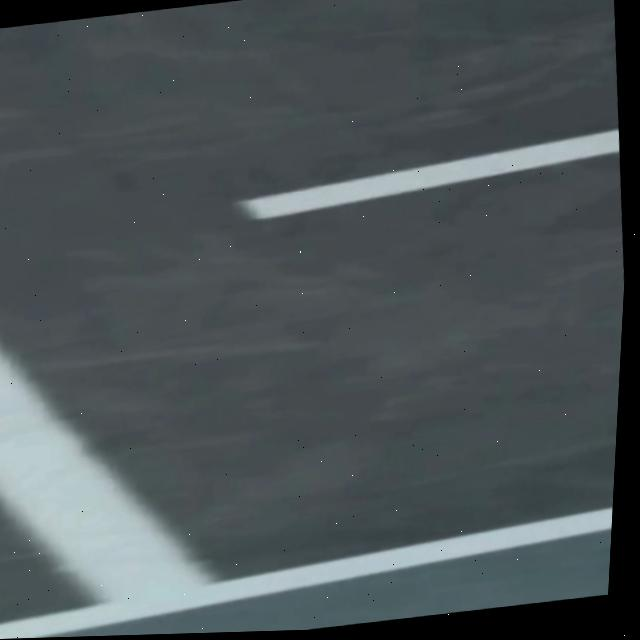center: (236, 128, 619, 218)
left: (0, 507, 613, 639)
